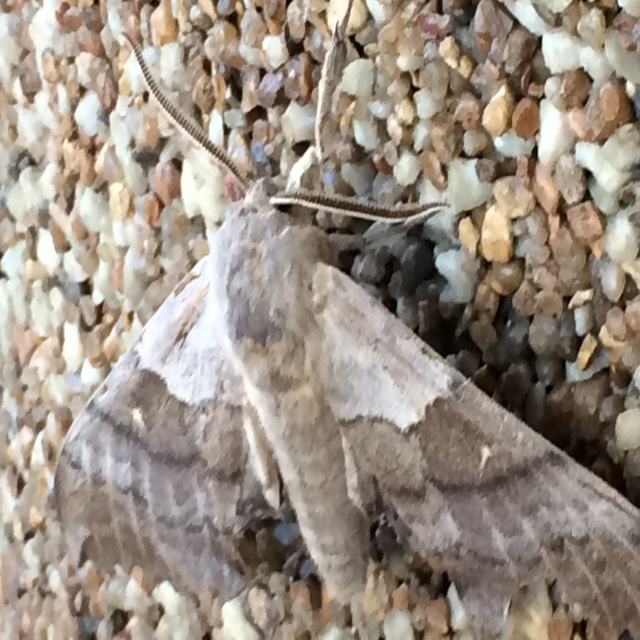Moths and butterflies: (54, 28, 640, 639)
